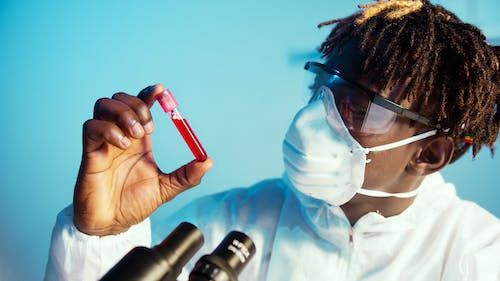blood: (169, 110, 208, 163)
